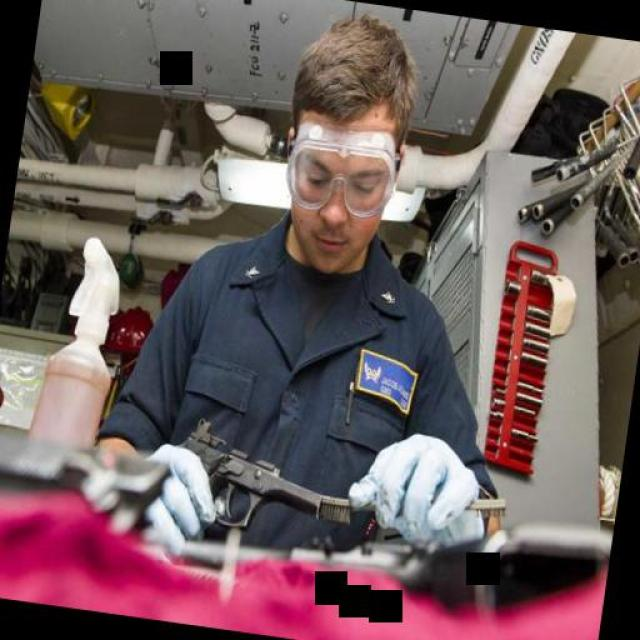gun: (161, 409, 335, 551)
